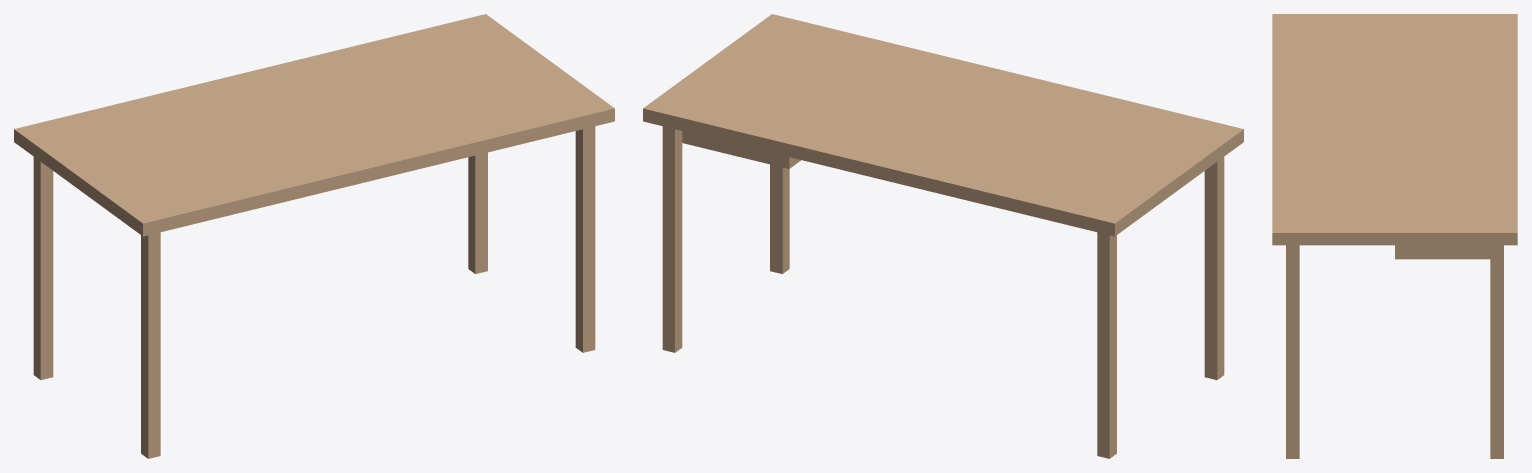
The model's file is desk_03.glb.
3 renders of one model, left to right at view 1: azimuth 30°, elevation 25°; view 2: azimuth 150°, elevation 25°; view 3: azimuth 270°, elevation 25°, orthographic. The views are drawn at different scales.
Size of the model in its own units: 1.52 by 0.75 by 0.72.
